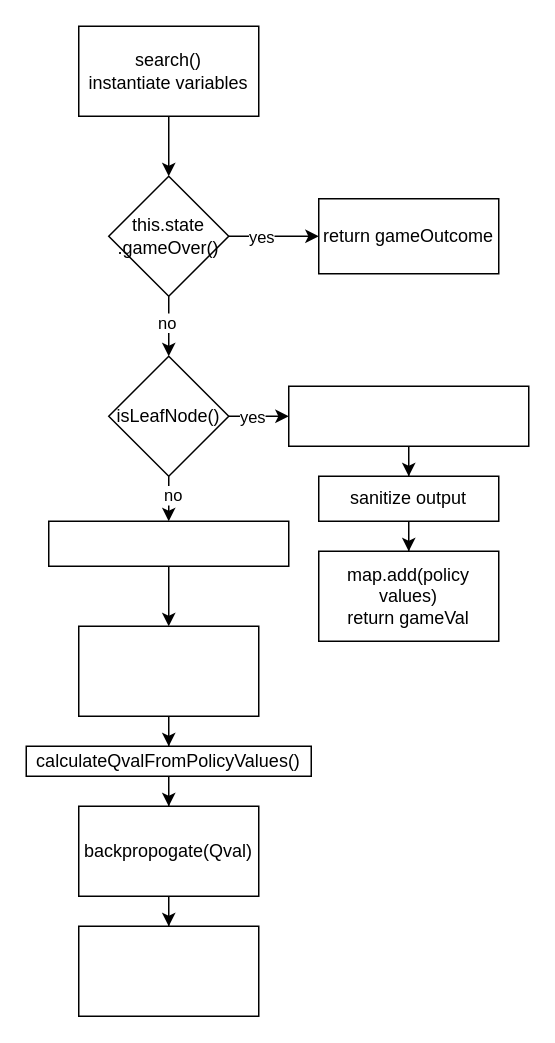
Image size: 555x1043. Some labels were removed from this diagram. Here are the shapes that lost their labels. From the top down, the centre of each, then its label:
At point (408, 415): "stateVal, actionPolicy = nnet.predict(this.gameState)".
At point (168, 543): "findNodeMaximiseUCBVal()".
At point (168, 670): "this.state = bestNode search()".
At point (168, 970): "return stateVal".
